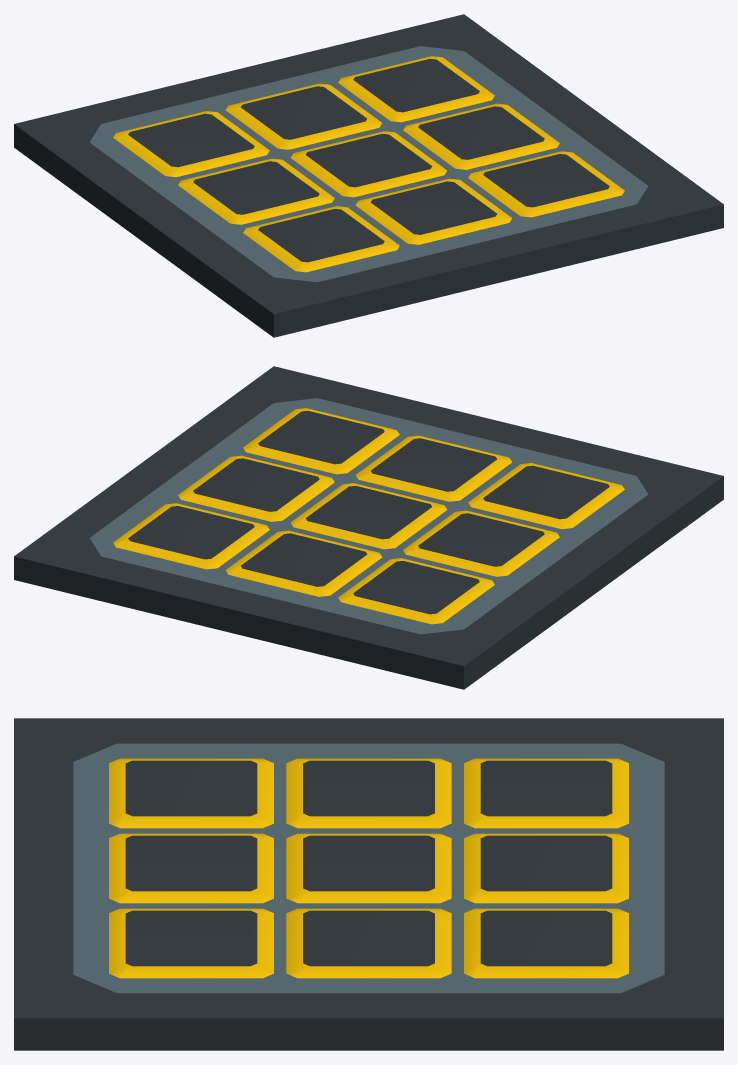
Rendered from Platform_012.glb.
3 views of the same model, one above another, from view 1: azimuth 30°, elevation 25°; view 2: azimuth 150°, elevation 25°; view 3: azimuth 270°, elevation 25° (orthographic). The views are drawn at different scales.
Visible parts, largest first — view 1: Platform_012; view 2: Platform_012; view 3: Platform_012.
Boxes of the visible parts, x1=… form: Platform_012: x1=14, y1=14, x2=723, y2=337; Platform_012: x1=14, y1=366, x2=723, y2=689; Platform_012: x1=14, y1=718, x2=723, y2=1050.
Size of the model in its own units: 4 by 0.2618 by 4.
1 material, 1 textured.
